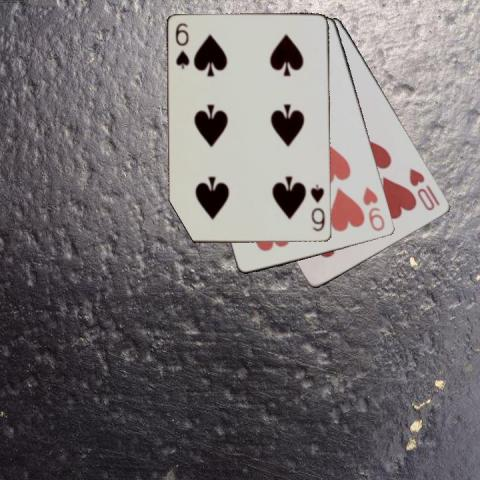10h: (406, 165, 442, 213)
6s: (308, 182, 327, 234), (173, 20, 191, 70)
9h: (360, 184, 387, 233)
